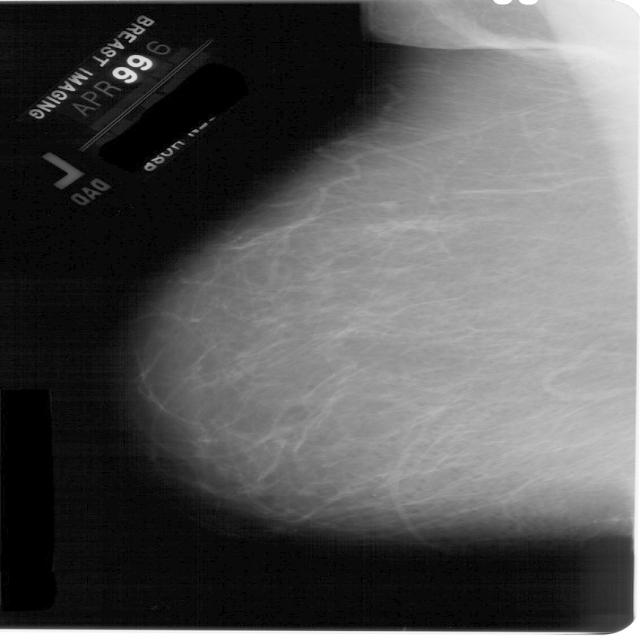tumour: (378, 199, 398, 211)
